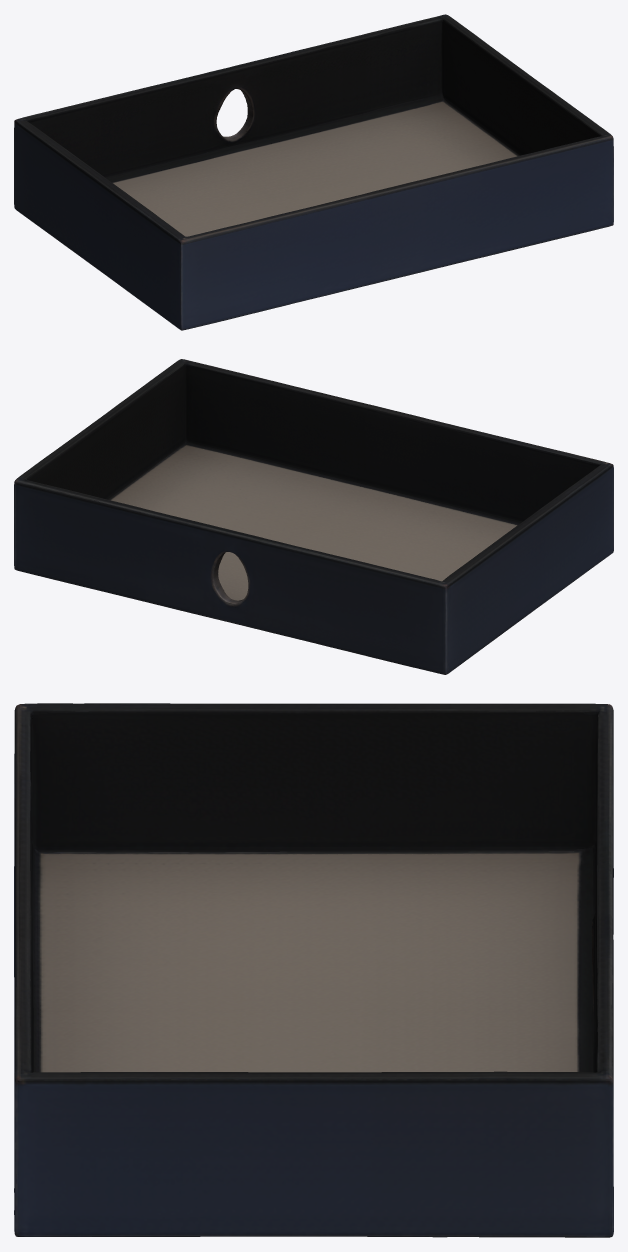
3 renders of one model, top to bottom at view 1: azimuth 30°, elevation 25°; view 2: azimuth 150°, elevation 25°; view 3: azimuth 270°, elevation 25°, orthographic. The views are drawn at different scales.
Parts seen in each view (by area): view 1: world; view 2: world; view 3: world.
Part boxes in pixels (left/top/right/bottom): world: left=14, top=14, right=613, bottom=330; world: left=14, top=359, right=613, bottom=674; world: left=14, top=703, right=613, bottom=1237.
Size of the model in its own units: 1 by 0.1995 by 0.6737.
1 material, 1 textured.
